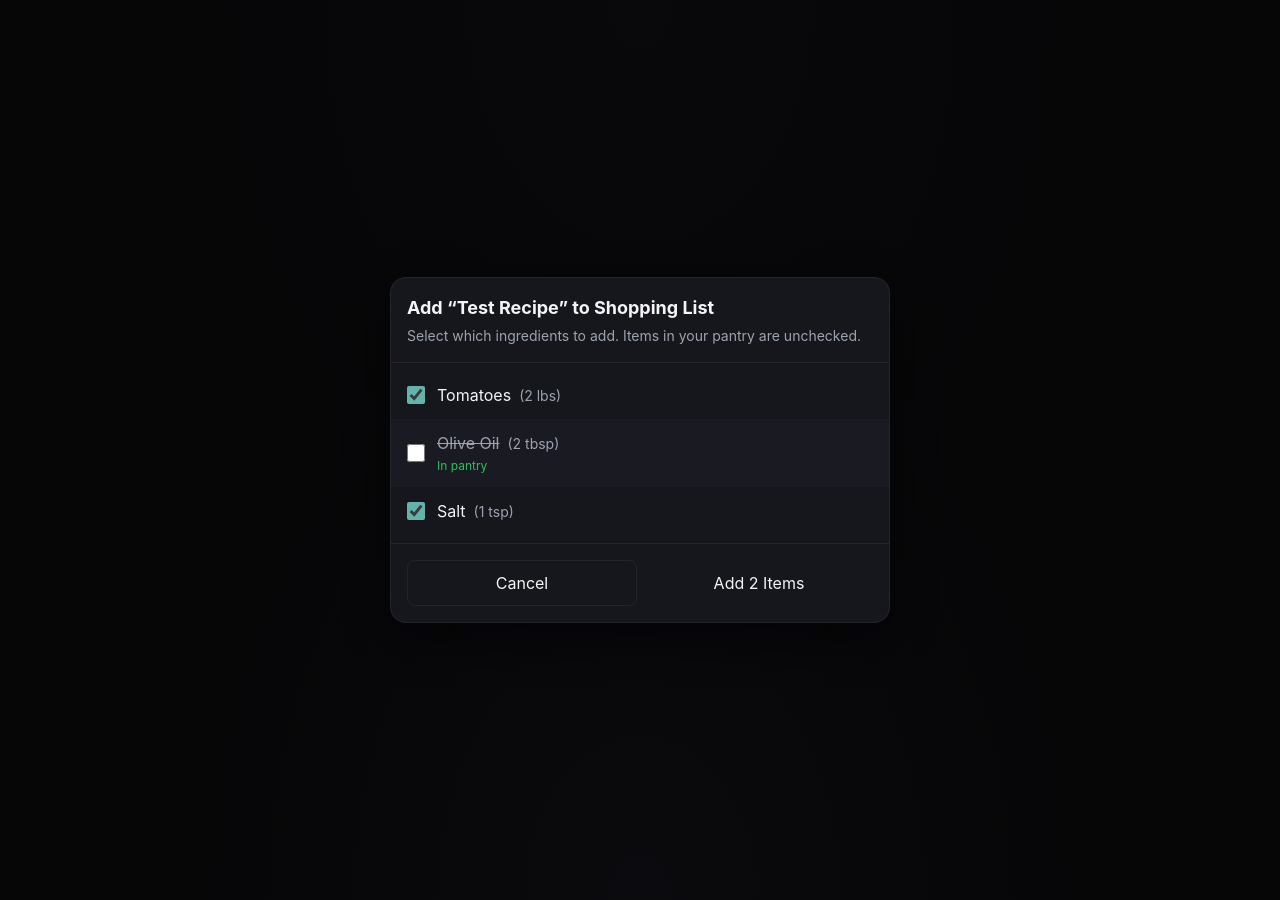
it: PantryCheckModal › toggling ingredients › should update item count in submit button when toggling
expect the button "Add 2 Items" is shown: met, box [645, 560, 873, 606]
// Uncheck Tomatoes
Click the checkbox labelled "Tomatoes (2 lbs)" at (416, 395), box [407, 386, 425, 404]
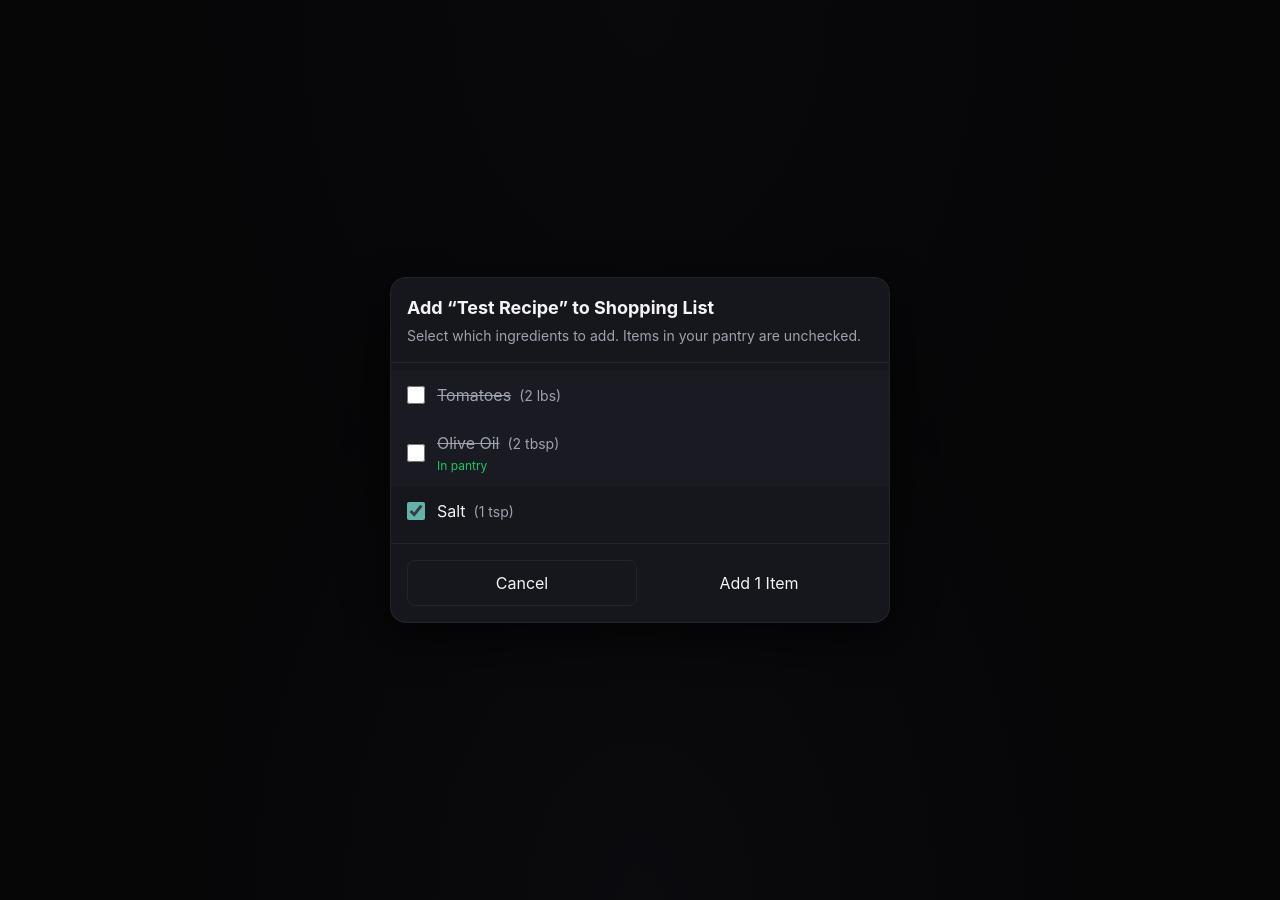
expect the button "Add 1 Item" is shown: met, box [645, 560, 873, 606]
// Check Olive Oil
Click the checkbox labelled "Olive Oil (2 tbsp) In pantry" at (416, 453), box [407, 444, 425, 462]
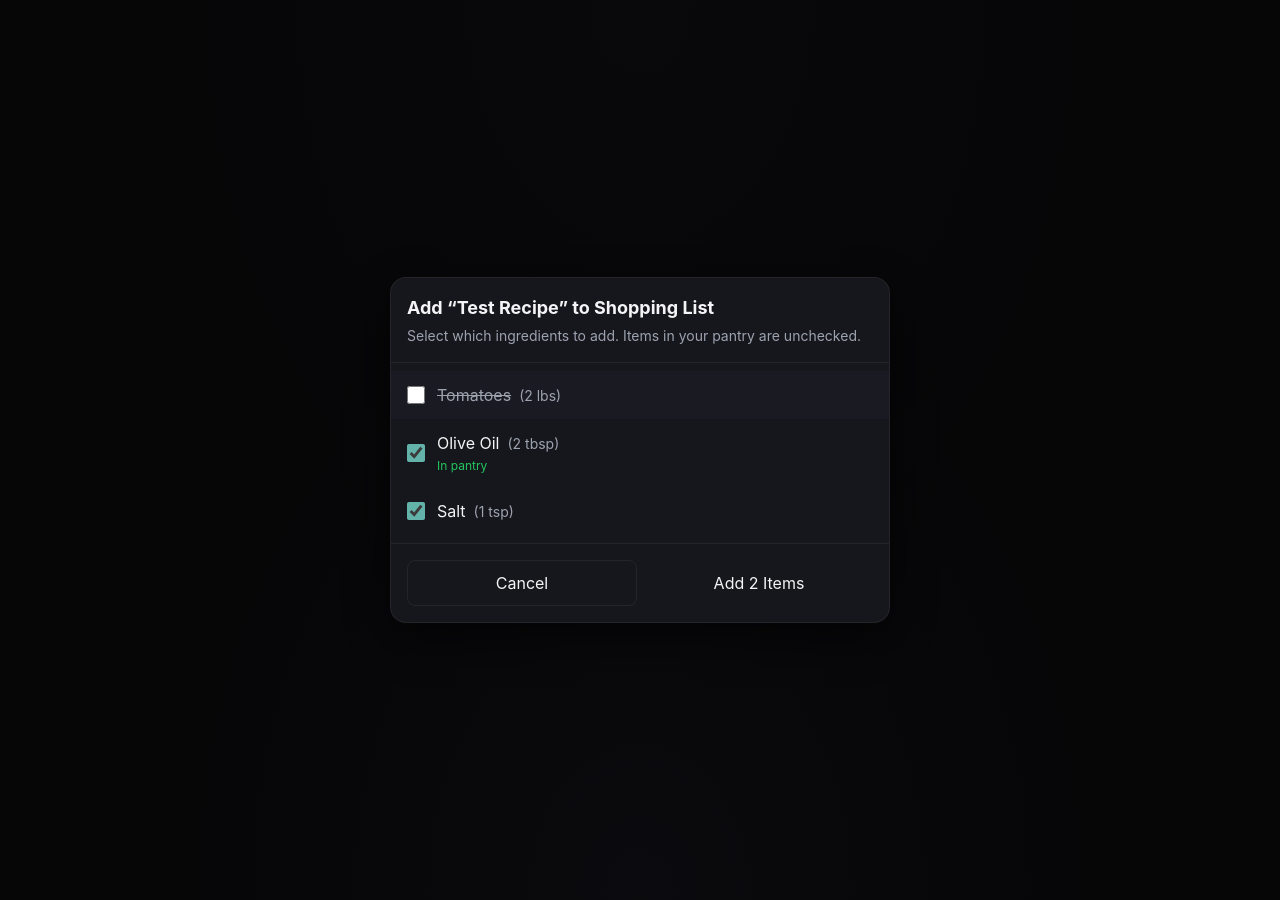
expect the button "Add 2 Items" is shown: met, box [645, 560, 873, 606]
